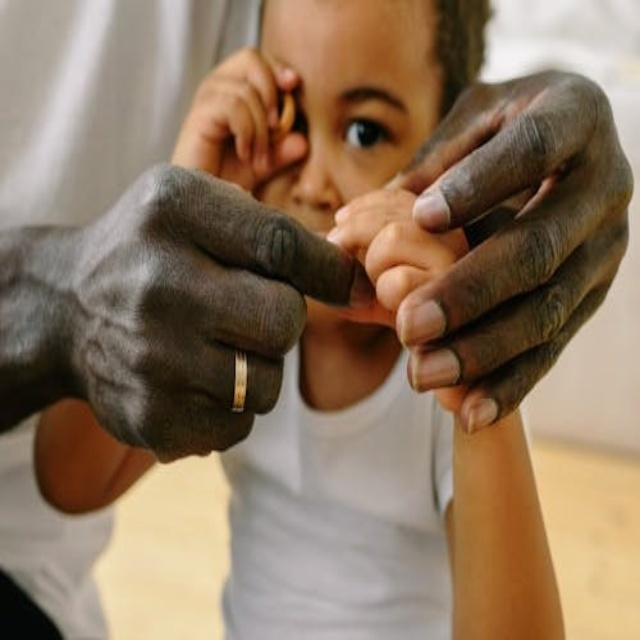Sin_gafas: (314, 79, 407, 171)
Sin_guantes: (2, 162, 354, 469), (353, 64, 634, 436), (165, 44, 312, 194)
